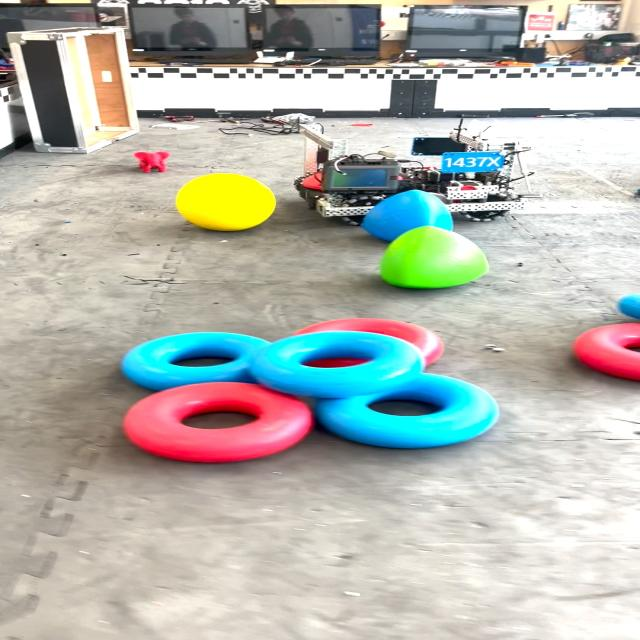Blue-Ring: (316, 374, 500, 449), (249, 331, 424, 399), (122, 332, 269, 391)
Red-Ring: (124, 382, 313, 462), (296, 318, 444, 364), (573, 324, 640, 380)
